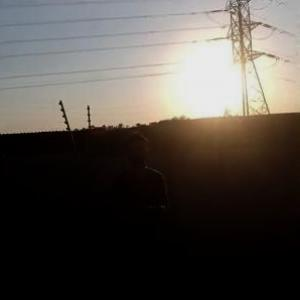follow: (105, 124, 176, 299)
